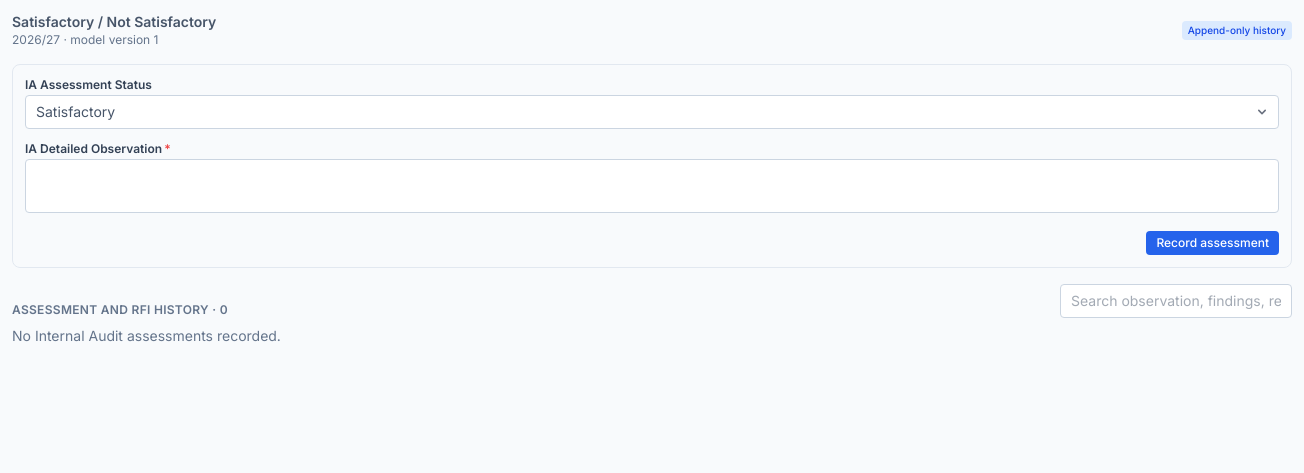
Test: InternalAuditAssessmentPanel › shows exactly the simplified model fields and requires an RFI due date for Not Satisfactory
Later steps or results of the test are not shown.
Expected: the text "Satisfactory / Not Satisfactory" is shown, x1=12 y1=12 x2=216 y2=32
Expected: the text box labelled "IA Detailed Observation*" is shown, x1=25 y1=159 x2=1279 y2=213
Step 1. Select "Not Satisfactory" in the dropdown labelled "IA Assessment Status" → (652, 112), box x1=25 y1=95 x2=1279 y2=129
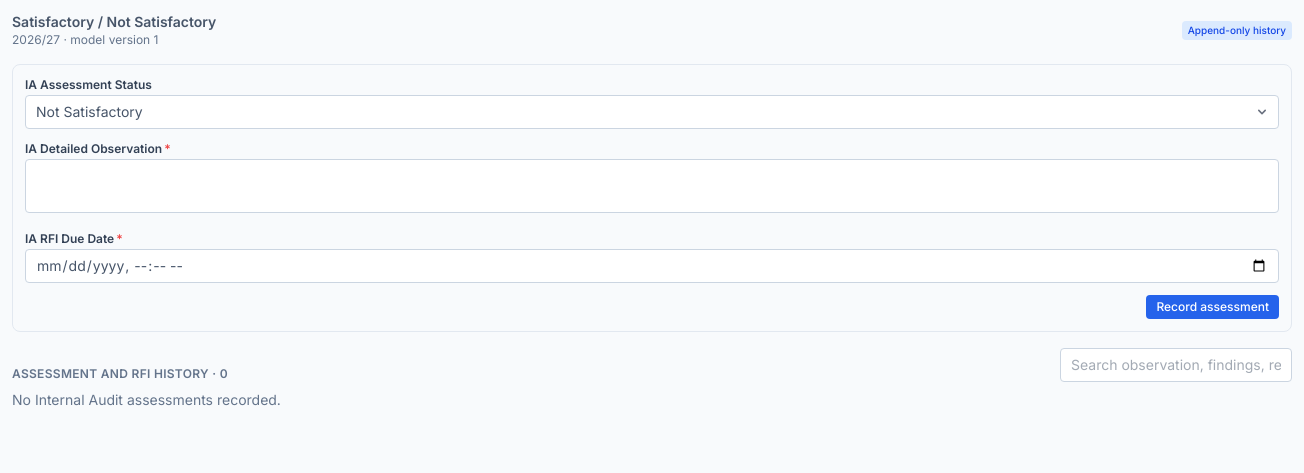
Now the field labelled "IA RFI Due Date*" is shown, box x1=25 y1=249 x2=1279 y2=283
Step 2. Type "Unsigned invoices do not support the actual." into the text box labelled "IA Detailed Observation*" → (652, 186), box x1=25 y1=159 x2=1279 y2=213
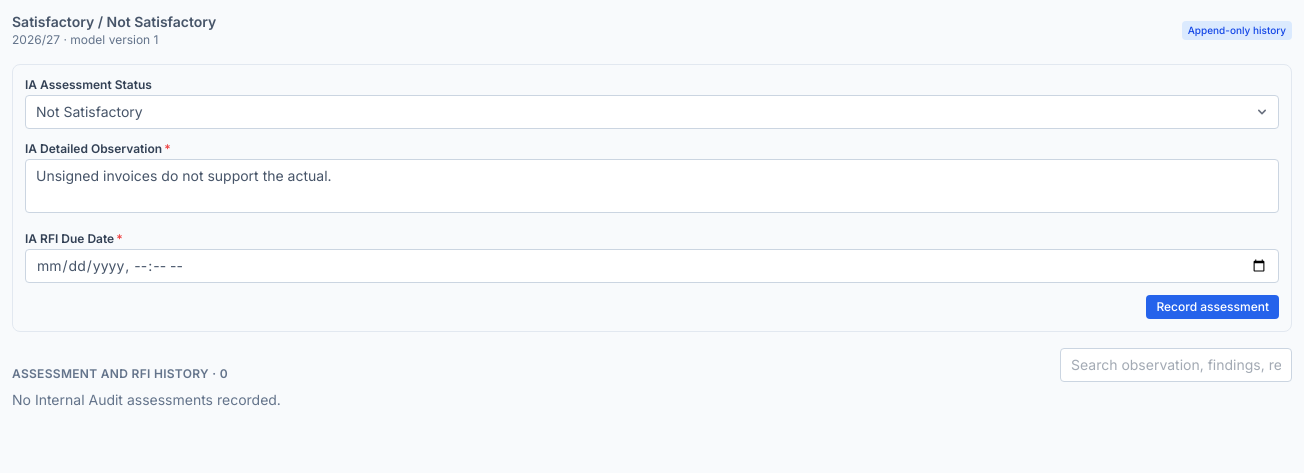
Step 3. Click the button "Record assessment" → (1213, 307), box x1=1146 y1=295 x2=1279 y2=319
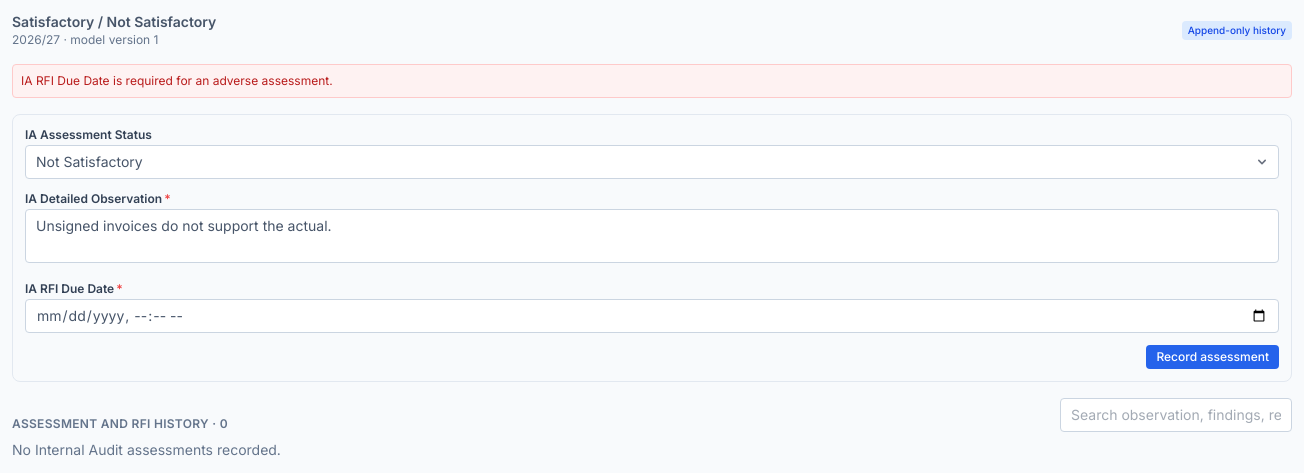
Now the message shows "IA RFI Due Date is required", box x1=21 y1=73 x2=333 y2=88
